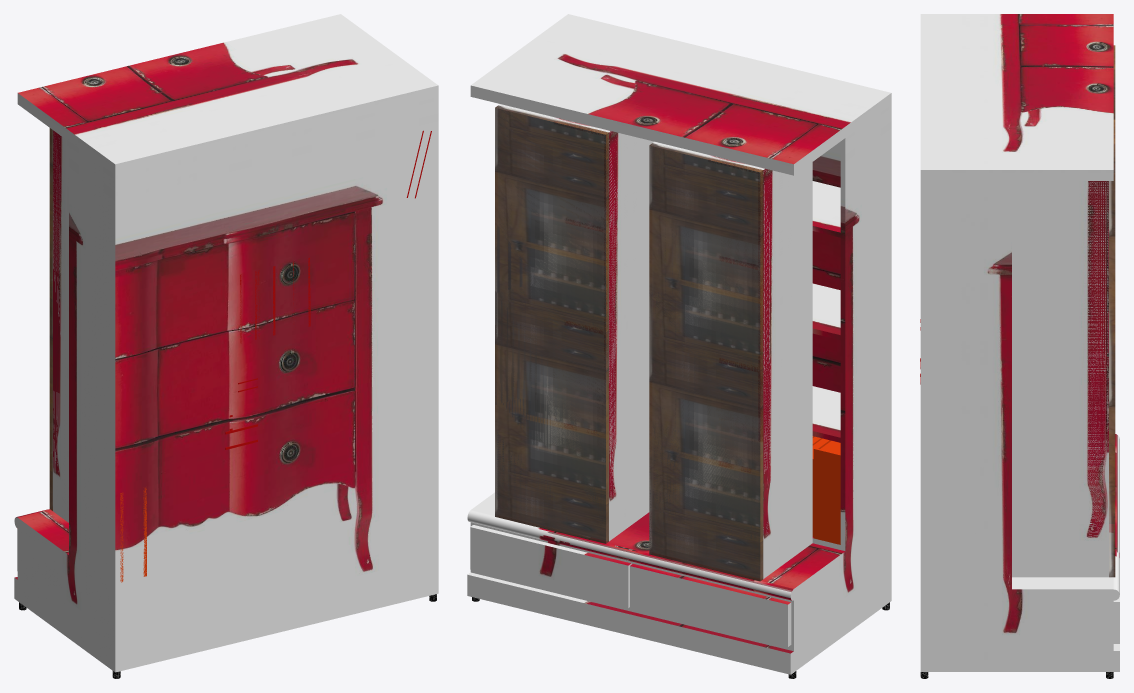
3 renders of one model, left to right at view 1: azimuth 30°, elevation 25°; view 2: azimuth 150°, elevation 25°; view 3: azimuth 270°, elevation 25°, orthographic.
Parts seen in each view (by area): view 1: mesh1_mesh1-geometry, mesh9_mesh9-geometry, mesh10_mesh10-geometry, mesh14_mesh14-geometry; view 2: mesh1_mesh1-geometry, mesh10_mesh10-geometry, mesh7_mesh7-geometry, mesh9_mesh9-geometry, mesh6_mesh6-geometry, mesh12_mesh12-geometry; view 3: mesh1_mesh1-geometry, mesh6_mesh6-geometry, mesh7_mesh7-geometry.
Boxes of the visible parts, x1,y1,x2,y2 form: mesh1_mesh1-geometry: (14,14,438,678); mesh9_mesh9-geometry: (53,130,68,522); mesh10_mesh10-geometry: (49,128,52,510); mesh14_mesh14-geometry: (225,130,431,449); mesh1_mesh1-geometry: (467,14,891,678); mesh10_mesh10-geometry: (649,143,763,581); mesh7_mesh7-geometry: (495,105,608,543); mesh9_mesh9-geometry: (652,141,812,578); mesh6_mesh6-geometry: (498,104,653,541); mesh12_mesh12-geometry: (812,436,840,544); mesh1_mesh1-geometry: (920,14,1119,678); mesh6_mesh6-geometry: (1012,181,1108,577); mesh7_mesh7-geometry: (1109,119,1115,577).
Size of the model in its own units: 0.5261 by 0.8013 by 0.285.
